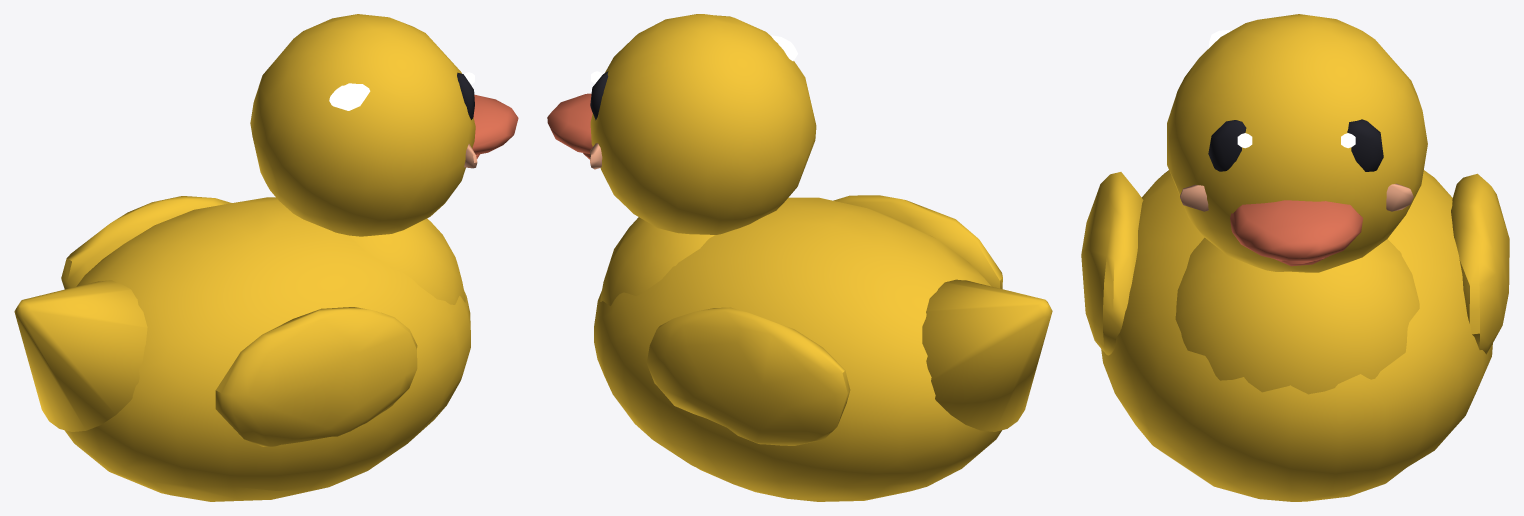
File: rubber_duck.glb
3 views of the same model, side by side, from view 1: azimuth 30°, elevation 25°; view 2: azimuth 150°, elevation 25°; view 3: azimuth 270°, elevation 25° (orthographic). The views are drawn at different scales.
Parts seen in each view (by area): view 1: rubber_duck; view 2: rubber_duck; view 3: rubber_duck.
Boxes of the visible parts, left/top/right/bottom form: rubber_duck: left=14, top=14, right=518, bottom=501; rubber_duck: left=547, top=14, right=1052, bottom=501; rubber_duck: left=1081, top=14, right=1509, bottom=501.
Size of the model in its own units: 1.42 by 1.17 by 0.9136.
Materials: 1 (1 with a texture image).
